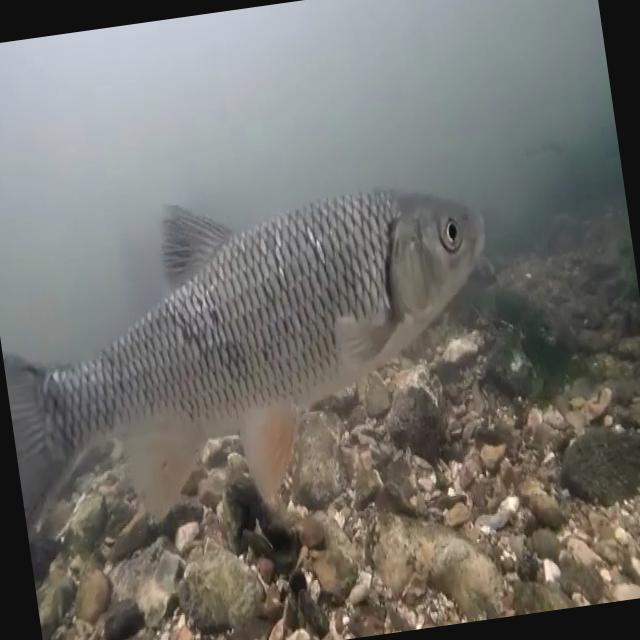Cakil Baligi: (0, 152, 524, 552)
